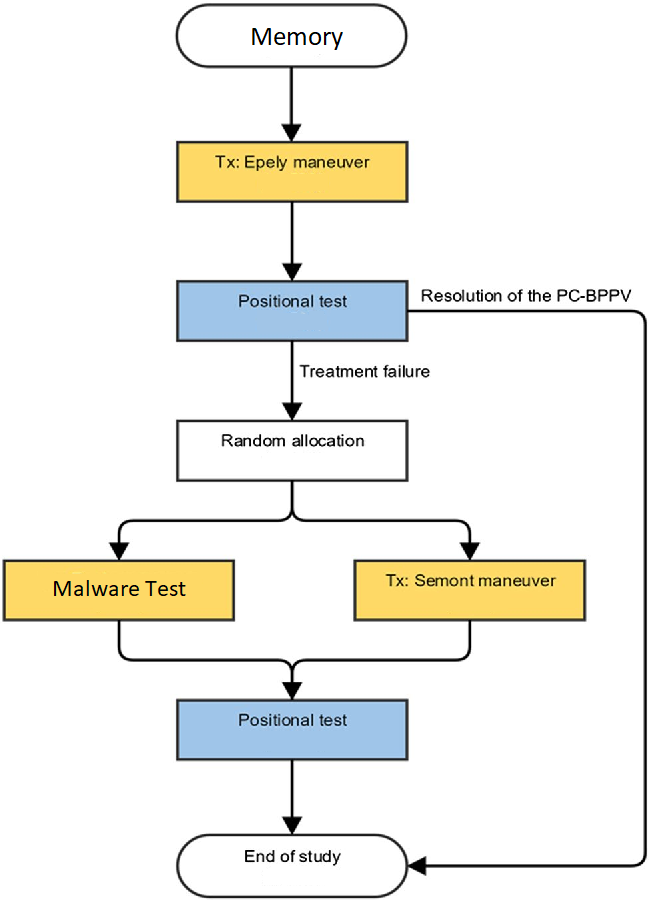arrow: (406, 304, 650, 879), (286, 474, 484, 559), (112, 617, 309, 701), (280, 618, 477, 700), (106, 478, 299, 559), (279, 196, 305, 281), (282, 338, 305, 419), (279, 64, 303, 141), (280, 758, 303, 837)
process: (172, 695, 414, 766), (173, 137, 414, 207), (350, 556, 590, 626), (172, 415, 412, 484), (173, 277, 413, 344), (2, 558, 239, 625)
terminator: (172, 1, 410, 73), (173, 832, 411, 900)
text: (417, 286, 635, 303), (382, 567, 558, 588), (51, 577, 187, 600), (247, 21, 345, 52), (212, 152, 372, 170), (297, 359, 430, 380), (219, 432, 368, 449), (232, 711, 349, 729), (235, 292, 351, 310), (242, 845, 349, 864)
